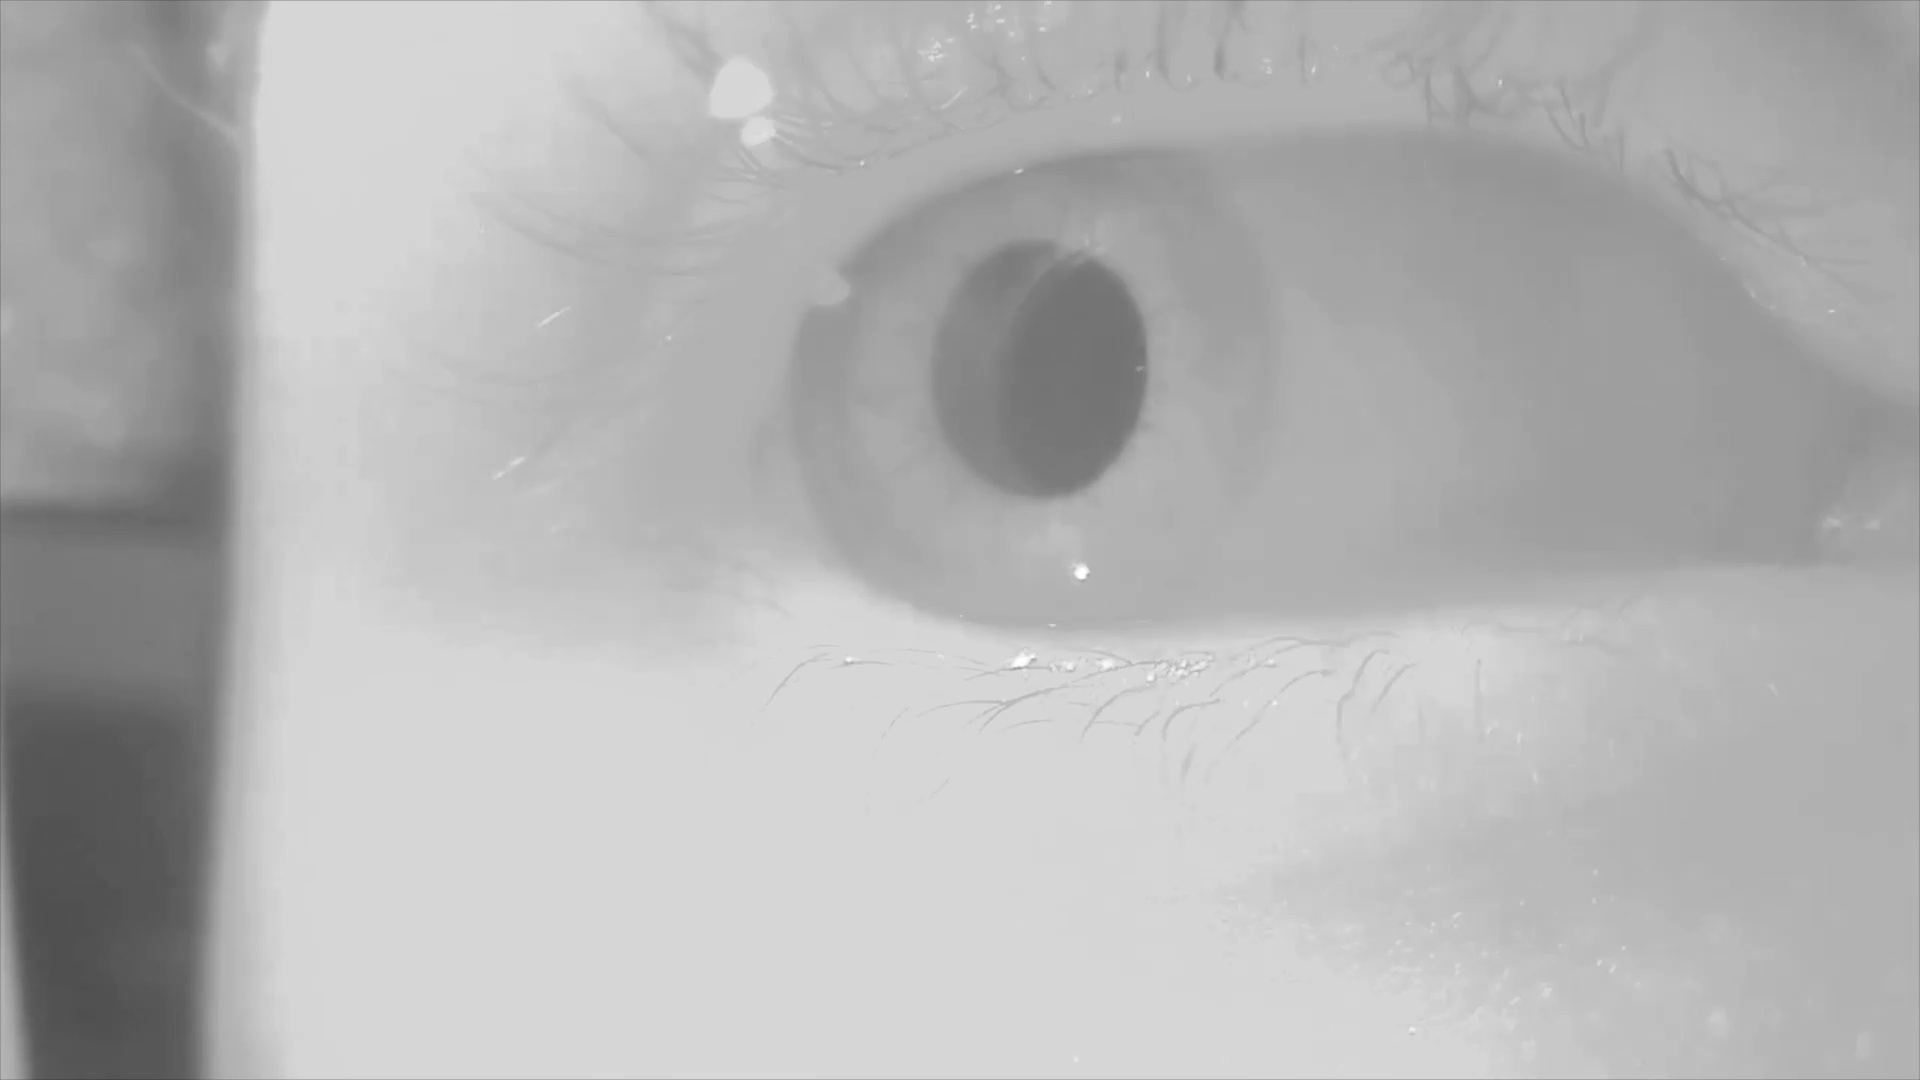pupil: (929, 241, 1151, 504)
